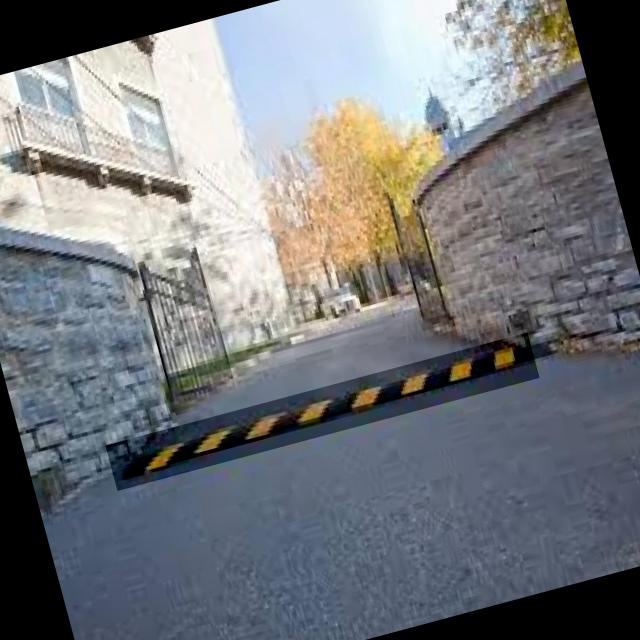bump: (105, 332, 539, 491)
